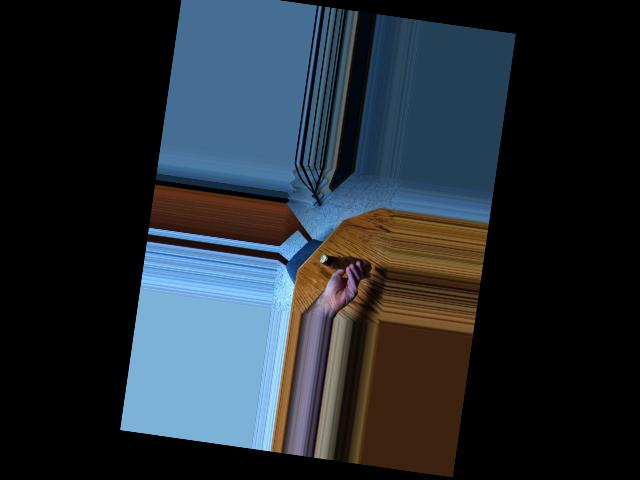sweet_potato: (322, 248, 369, 277)
